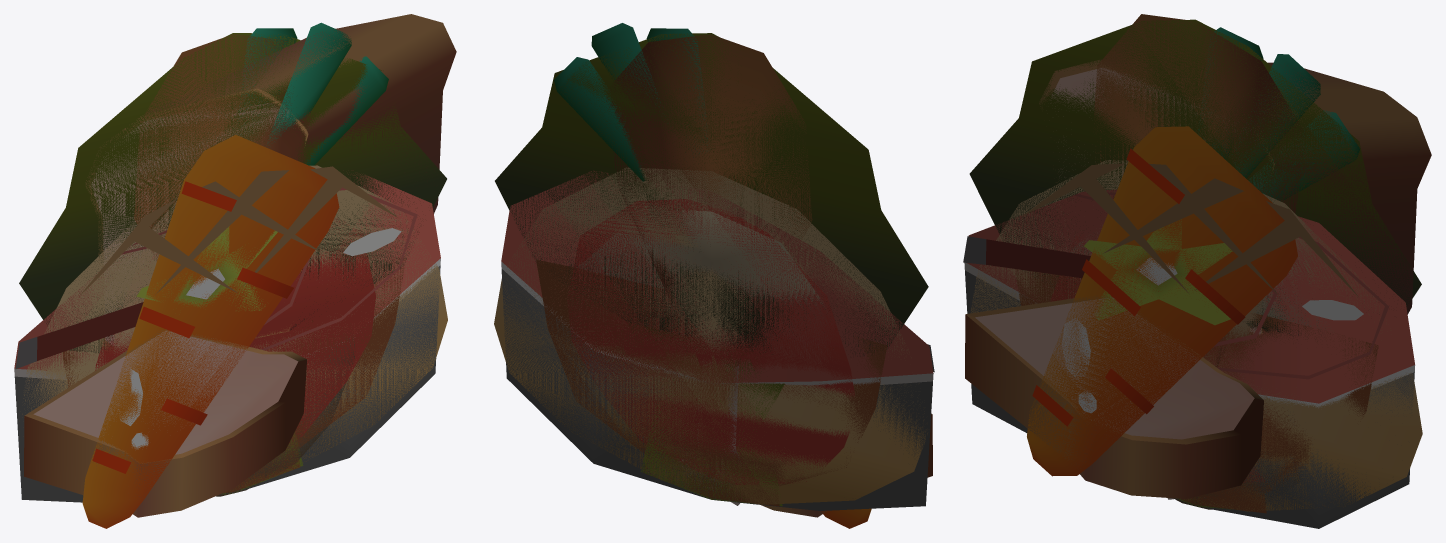
File: foodcut.gltf
3 views of the same model, side by side, from view 1: azimuth 30°, elevation 25°; view 2: azimuth 150°, elevation 25°; view 3: azimuth 330°, elevation 25° (orthographic). The views are drawn at different scales.
Visible parts, largest first — view 1: bread_GEO:PIV, carrot_GEO:PIV, broccoli_GEO, bun_GEO, fish_GEO:PIV, tomato_GEO:PIV, chicken_GEO:PIV, rice_GEO, egg_GEO; view 2: bun_GEO, broccoli_GEO, fish_GEO:PIV, tomato_GEO:PIV, rice_GEO, chicken_GEO:PIV, carrot_GEO:PIV, bread_GEO:PIV; view 3: bread_GEO:PIV, carrot_GEO:PIV, broccoli_GEO, fish_GEO:PIV, bun_GEO, chicken_GEO:PIV, rice_GEO, tomato_GEO:PIV, egg_GEO.
Boxes of the visible parts, <box> form: bread_GEO:PIV: <box>24,14,456,517</box>; carrot_GEO:PIV: <box>82,22,388,528</box>; broccoli_GEO: <box>19,33,446,494</box>; bun_GEO: <box>22,165,447,482</box>; fish_GEO:PIV: <box>14,174,440,502</box>; tomato_GEO:PIV: <box>95,218,375,449</box>; chicken_GEO:PIV: <box>134,34,315,260</box>; rice_GEO: <box>62,245,405,493</box>; egg_GEO: <box>114,201,355,496</box>; bun_GEO: <box>494,167,927,504</box>; broccoli_GEO: <box>495,33,928,506</box>; fish_GEO:PIV: <box>501,170,934,510</box>; tomato_GEO:PIV: <box>567,199,855,484</box>; rice_GEO: <box>536,210,887,506</box>; chicken_GEO:PIV: <box>606,34,812,505</box>; carrot_GEO:PIV: <box>554,23,871,528</box>; bread_GEO:PIV: <box>761,413,932,517</box>; bread_GEO:PIV: <box>965,59,1431,498</box>; carrot_GEO:PIV: <box>1027,27,1359,476</box>; broccoli_GEO: <box>969,19,1421,510</box>; fish_GEO:PIV: <box>963,189,1415,528</box>; bun_GEO: <box>971,160,1422,511</box>; chicken_GEO:PIV: <box>1092,14,1304,499</box>; rice_GEO: <box>1015,225,1378,513</box>; tomato_GEO:PIV: <box>1050,219,1310,482</box>; egg_GEO: <box>1173,295,1301,509</box>.
Bounding box in the file's own units: 55.64 × 55.37 × 1.5.
